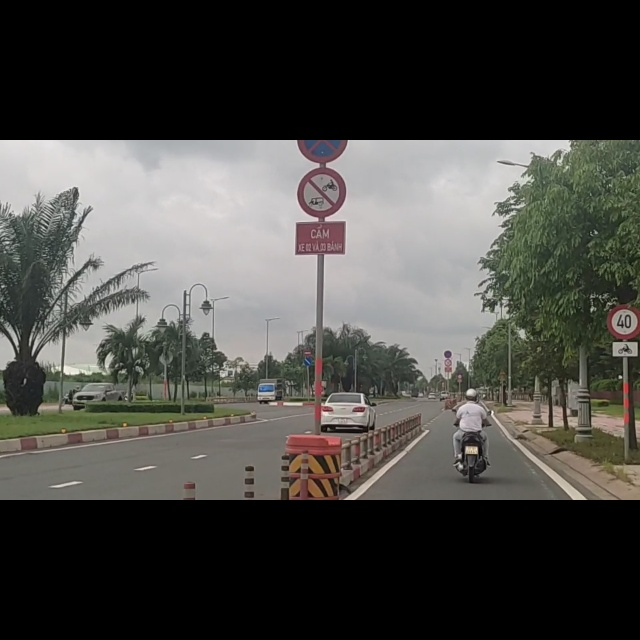bien_cam: (291, 47, 346, 135), (609, 293, 640, 356), (611, 356, 639, 384)
